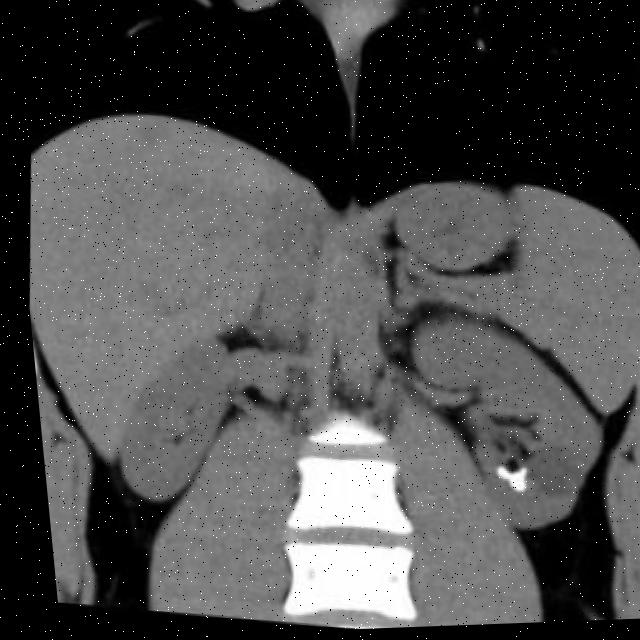Tas_Var: (499, 468, 525, 499), (486, 466, 502, 484)
